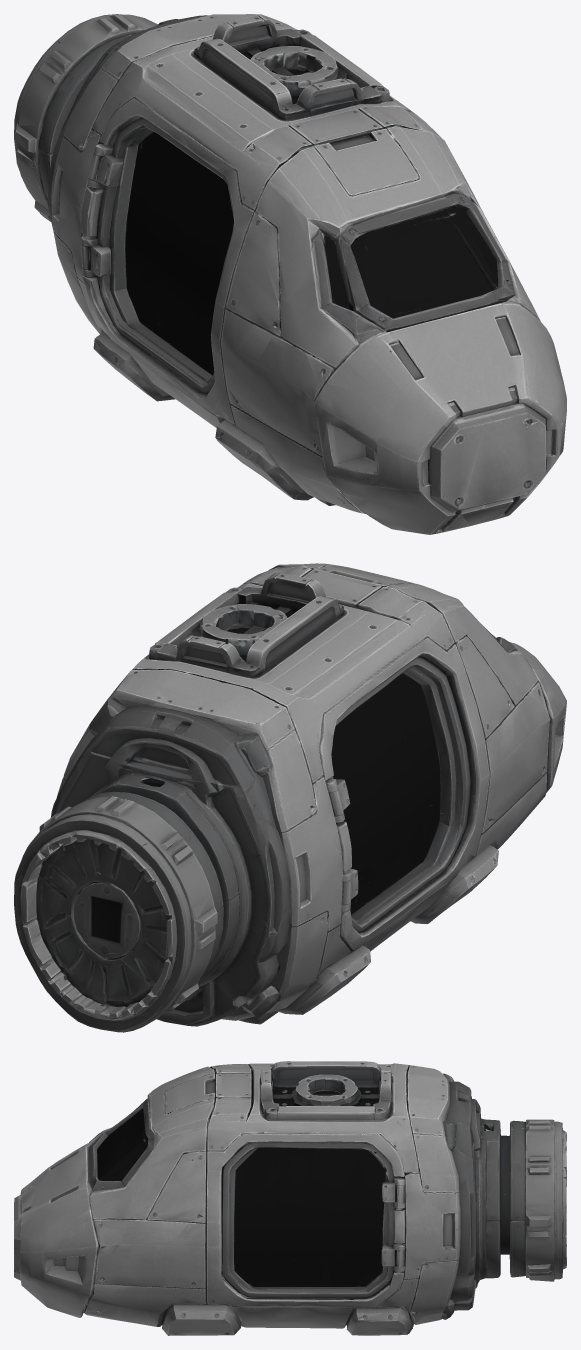
File: shared_escape_pod.glb
The picture shows the model from 3 angles, top to bottom: view 1: azimuth 30°, elevation 25°; view 2: azimuth 150°, elevation 25°; view 3: azimuth 270°, elevation 25°; orthographic projection. The views are drawn at different scales.
Visible parts, largest first — view 1: mesh_node; view 2: mesh_node; view 3: mesh_node.
Boxes of the visible parts, bbox=[...] form: mesh_node: bbox=[14, 14, 566, 534]; mesh_node: bbox=[14, 563, 566, 1032]; mesh_node: bbox=[14, 1061, 566, 1335].
Size of the model in its own units: 1.91 by 2.41 by 4.88.
1 material, 1 textured.
